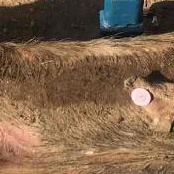text: (120, 78, 158, 116)
